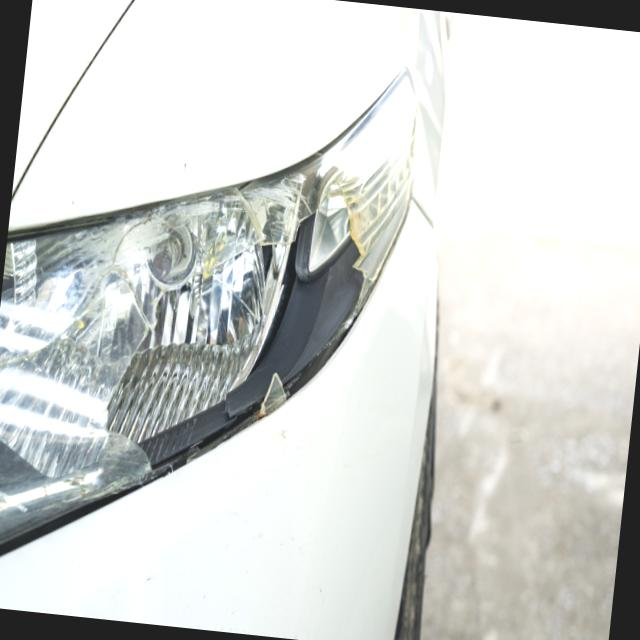Phare abime: (66, 133, 387, 525)
